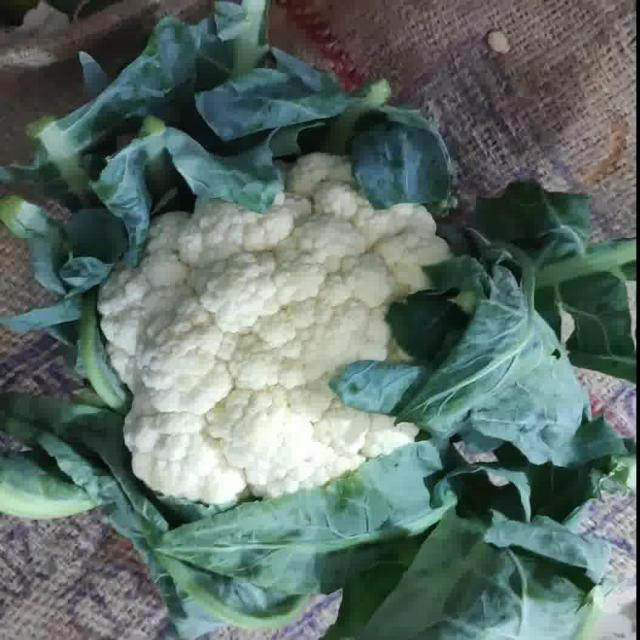Cauliflower: (100, 154, 449, 505)
